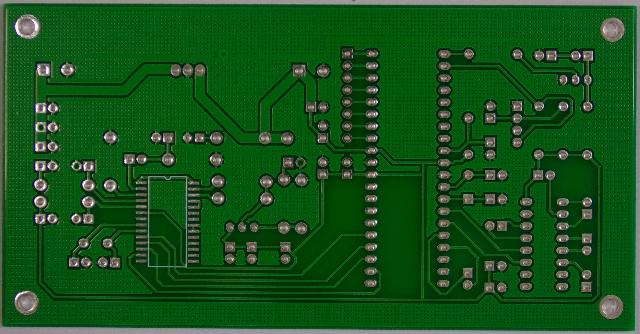missing_hole: (36, 120, 48, 134), (294, 156, 306, 168), (71, 158, 81, 172)
